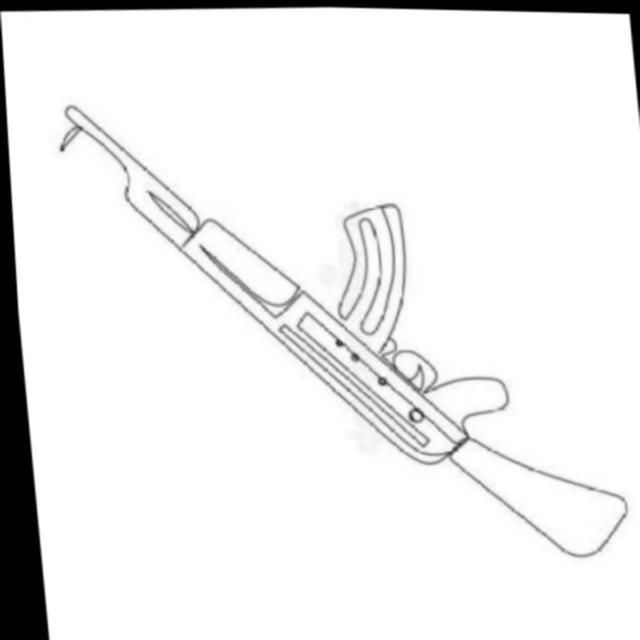weapon: (51, 84, 625, 572)
